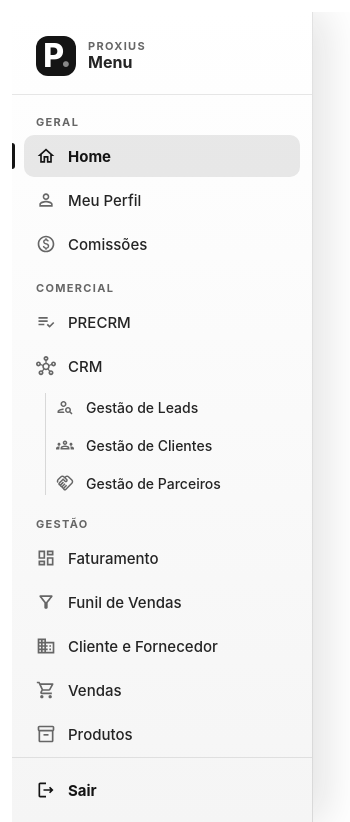
Sidebar › fecha ao clicar em Meu Perfil e preserva a rota
Click the link "Meu Perfil" at [89, 200], box x1=36 y1=190 x2=141 y2=210
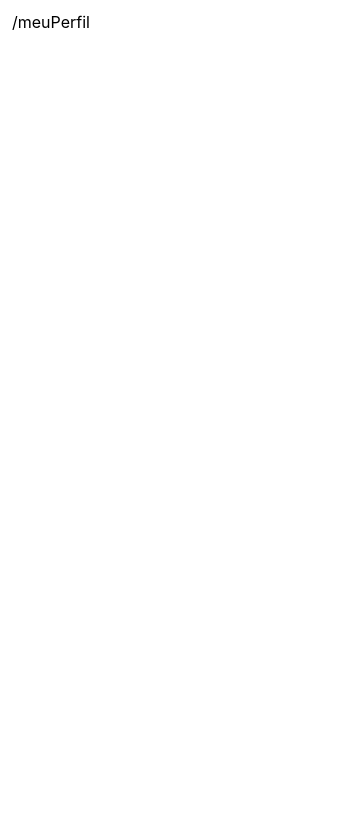
Now the text named "Rota atual" reads "/meuPerfil", box x1=12 y1=12 x2=90 y2=32
